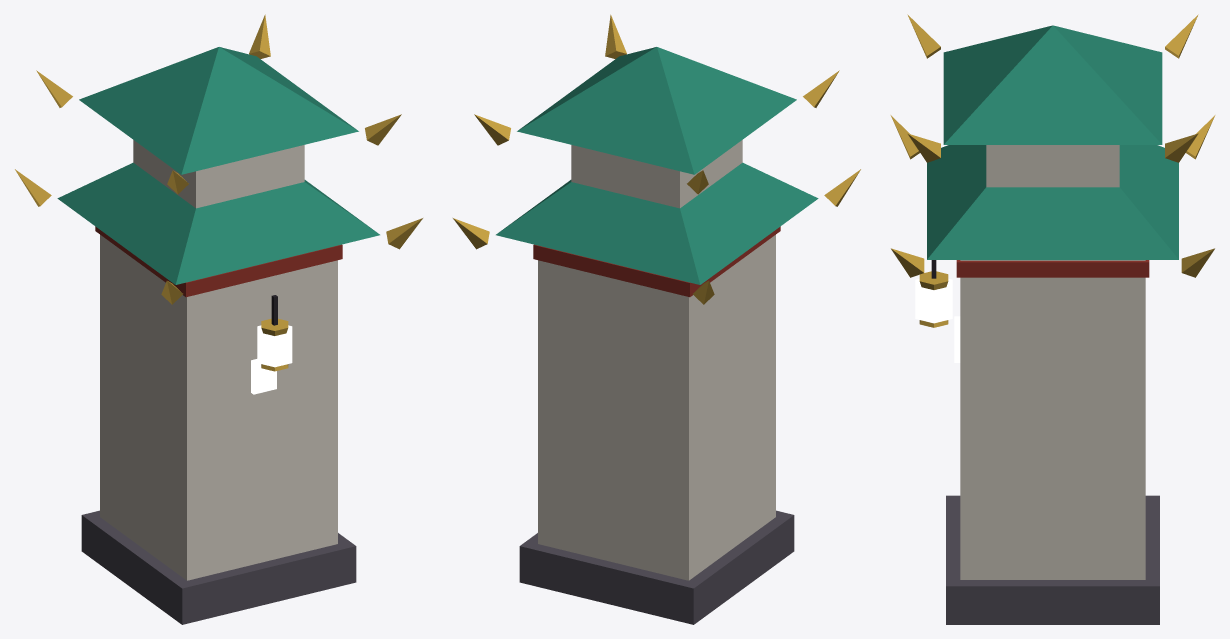
Rendered from wall_t3_post.glb.
The picture shows the model from 3 angles, left to right: view 1: azimuth 30°, elevation 25°; view 2: azimuth 150°, elevation 25°; view 3: azimuth 270°, elevation 25°; orthographic projection. The views are drawn at different scales.
Parts seen in each view (by area): view 1: body, glow; view 2: body; view 3: body, glow.
Part boxes in pixels (x1,y1,x2,y2): body: [15, 14, 422, 624]; glow: [251, 325, 292, 394]; body: [453, 14, 860, 624]; body: [890, 14, 1215, 624]; glow: [915, 278, 960, 362].
Bounding box in the file's own units: 1.33 × 2.57 × 1.37.
